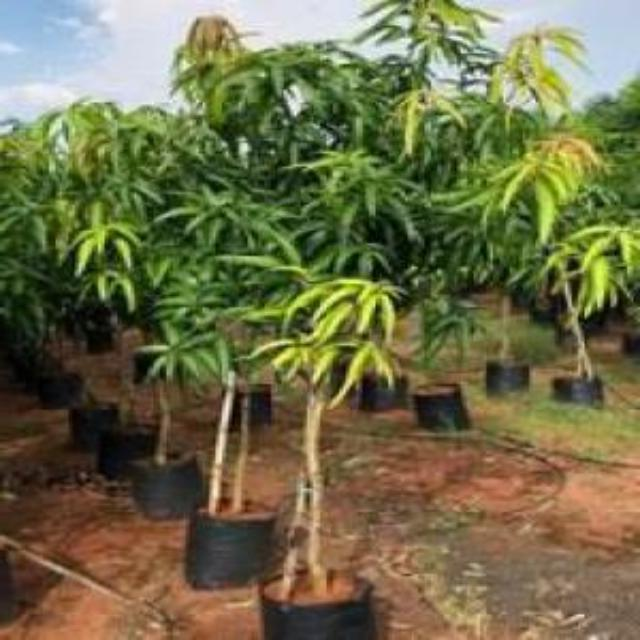tree: (26, 6, 608, 632)
